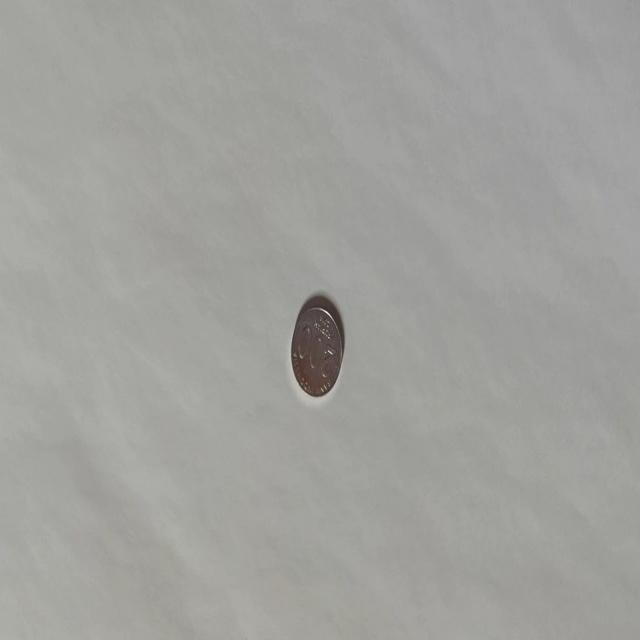dua ratus rupiah: (290, 300, 344, 400)
